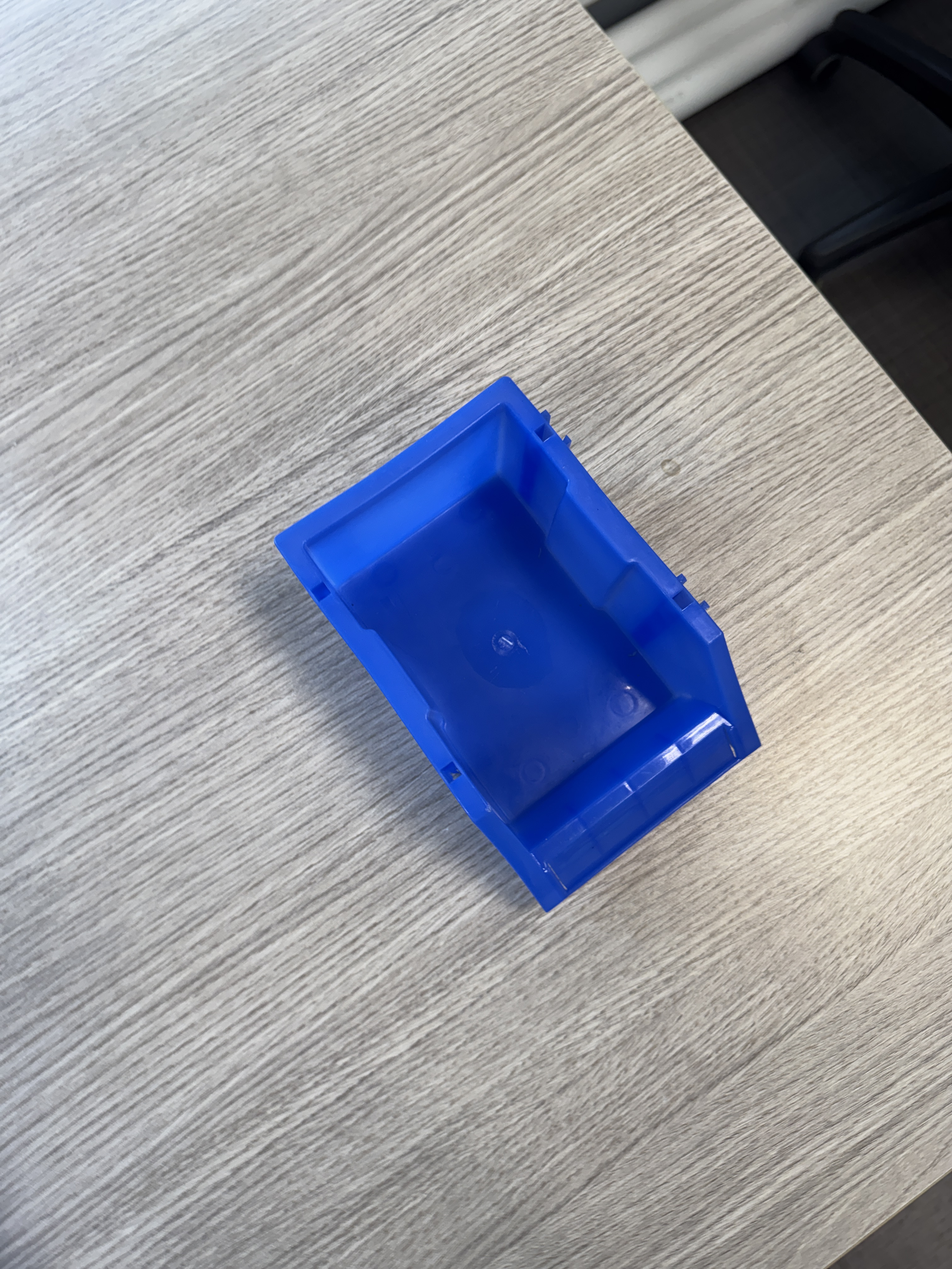Bin Boundary: (309, 390, 746, 851)
